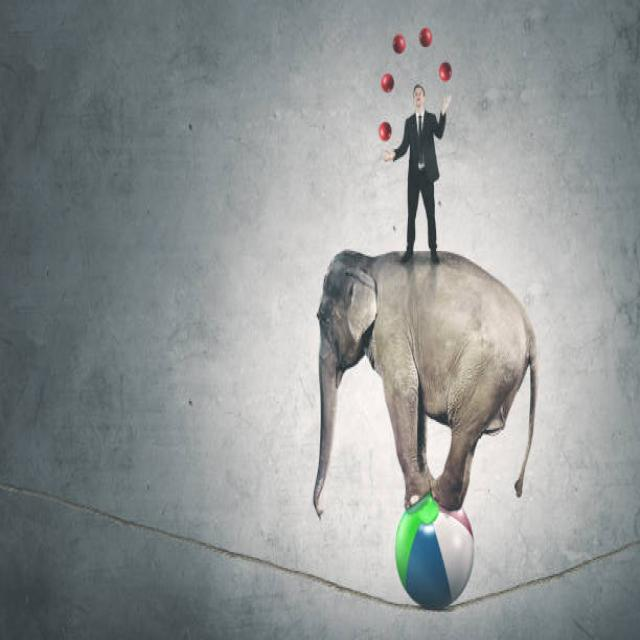Elephant: (310, 240, 539, 508)
